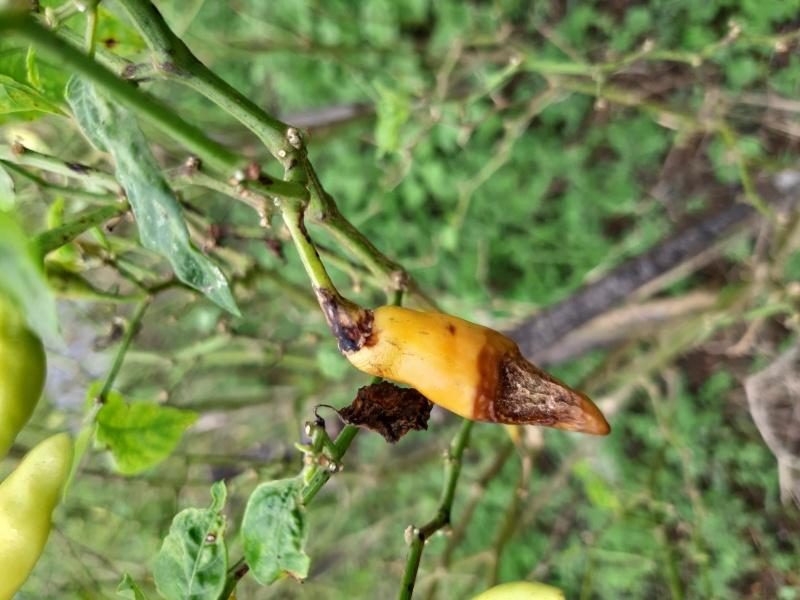antraknosa: (344, 305, 612, 436)
cabai_normal: (0, 430, 73, 597)
